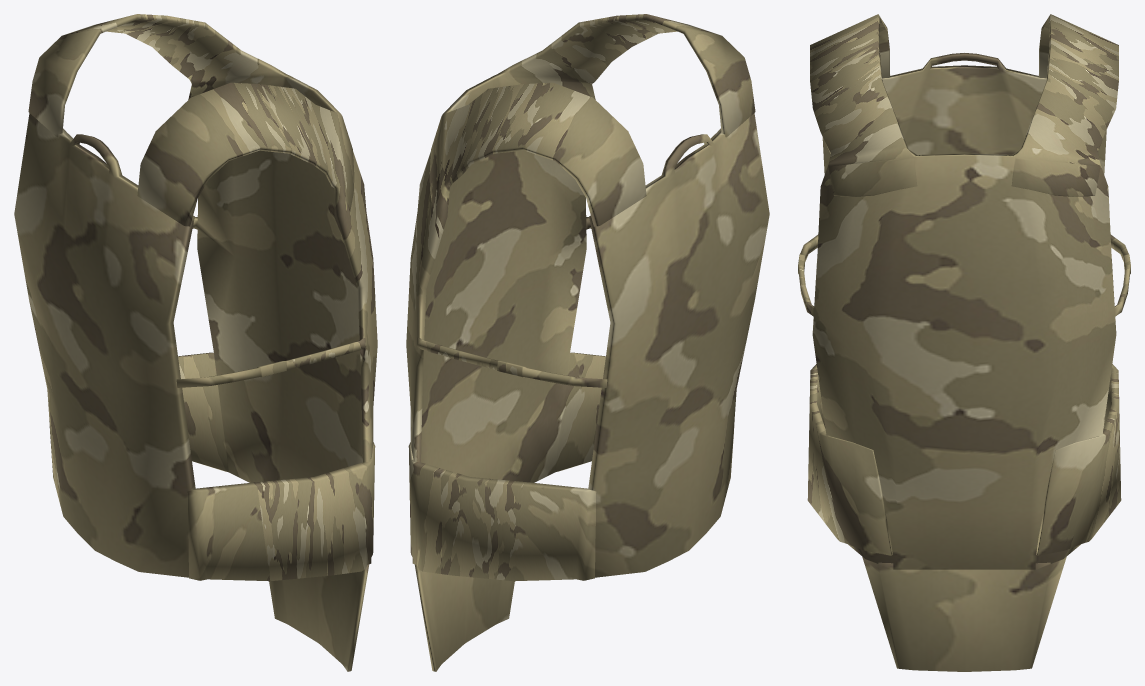
Rendered from Vest.fbx.
3 views of the same model, side by side, from view 1: azimuth 30°, elevation 25°; view 2: azimuth 150°, elevation 25°; view 3: azimuth 270°, elevation 25° (orthographic). The views are drawn at different scales.
Parts seen in each view (by area): view 1: Cube; view 2: Cube; view 3: Cube.
Boxes of the visible parts, box(x1,y1,x2,y2) form: Cube: box(14, 14, 377, 671); Cube: box(406, 14, 769, 671); Cube: box(798, 14, 1130, 671).
Size of the model in its own units: 200 by 459 by 238.
